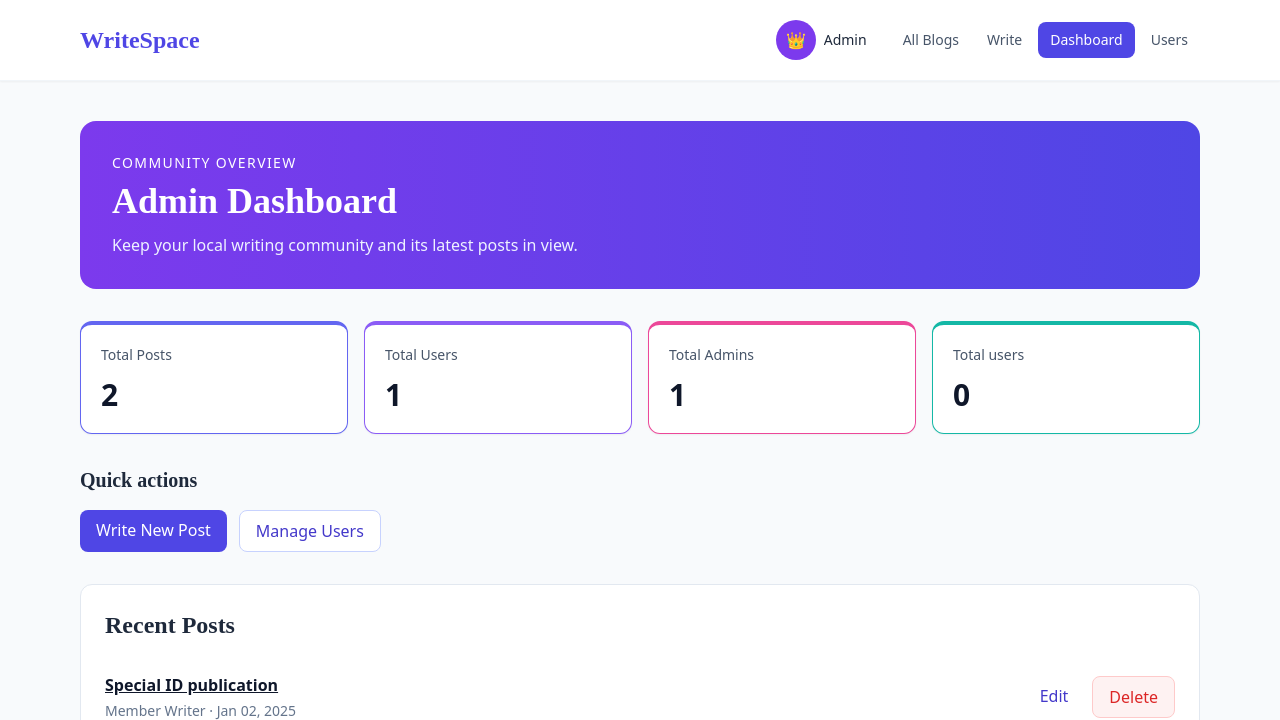
dashboard › opens the correct stored record from the dashboard edit link with an encoded ID
The image size is (1280, 720).
Click the link "Edit" at (1054, 696), box [1040,685,1068,707]
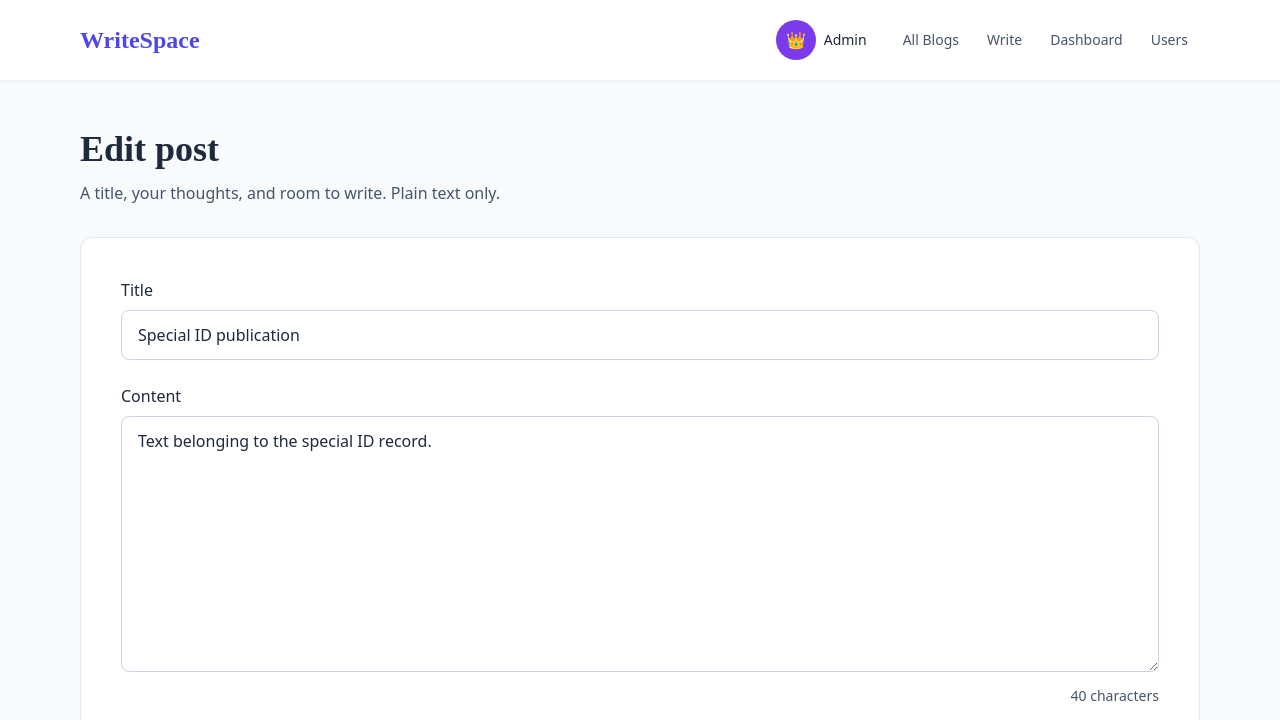
Check: the heading "Edit post" is shown, box [80,129,219,169]
Check: the field labelled "Title" holds "Special ID publication", box [121,310,1159,360]
Check: the text box labelled "Content" holds "Text belonging to the special ID record.", box [121,416,1159,672]
